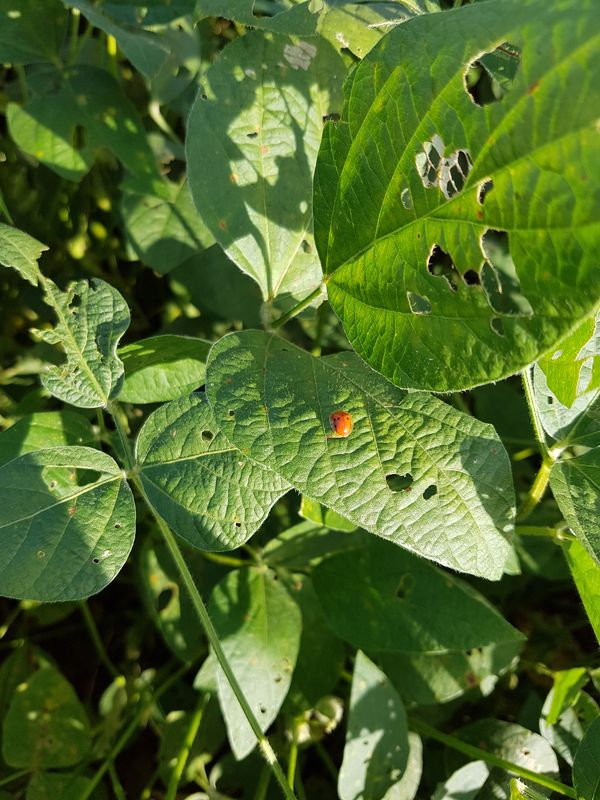Coccinellidae: (324, 406, 362, 443)
